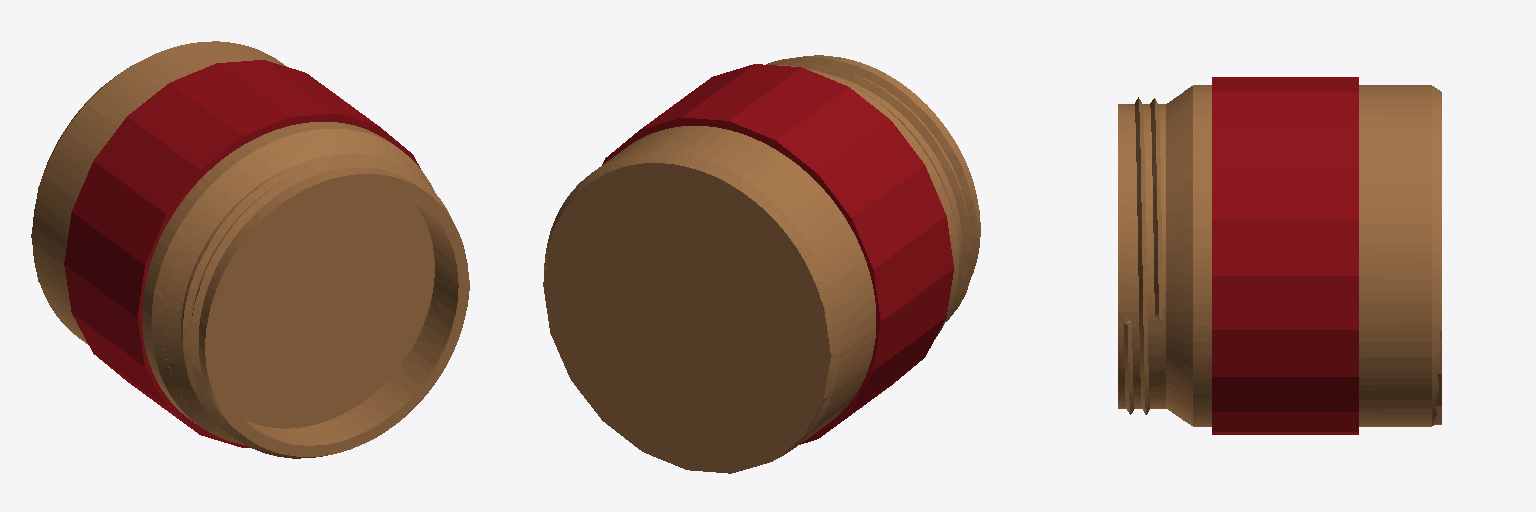
File: tinker.obj
3 renders of one model, left to right at view 1: azimuth 30°, elevation 25°; view 2: azimuth 150°, elevation 25°; view 3: azimuth 270°, elevation 25°, orthographic.
Visible parts, largest first — view 1: obj_0; view 2: obj_0; view 3: obj_0.
Boxes of the visible parts, x1=… form: obj_0: x1=31, y1=41, x2=469, y2=458; obj_0: x1=543, y1=55, x2=980, y2=473; obj_0: x1=1118, y1=77, x2=1441, y2=434.
Bounding box in the file's own units: 72 × 74 × 66.27.